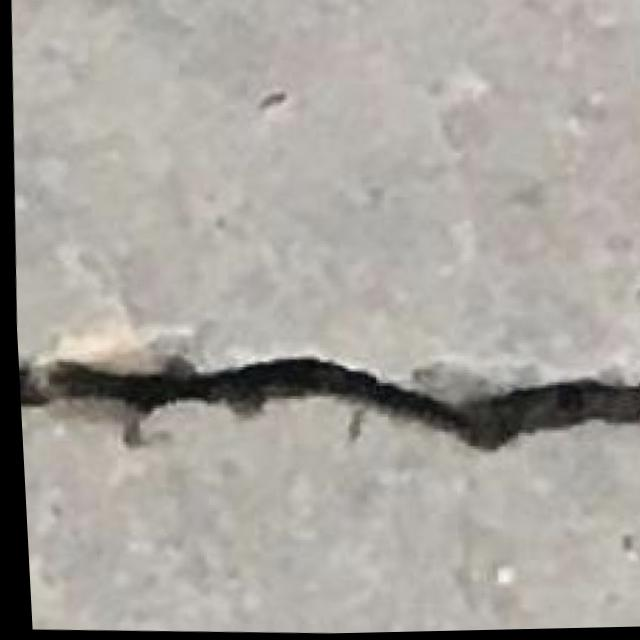Crack: (13, 316, 640, 482)
